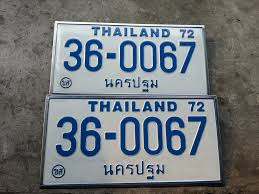Non-Bangkok: (103, 155, 170, 180), (102, 75, 161, 95)
